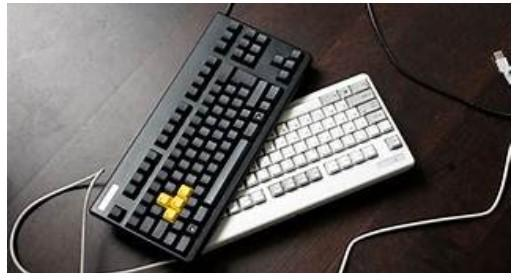Keyboard: (91, 13, 312, 262)
